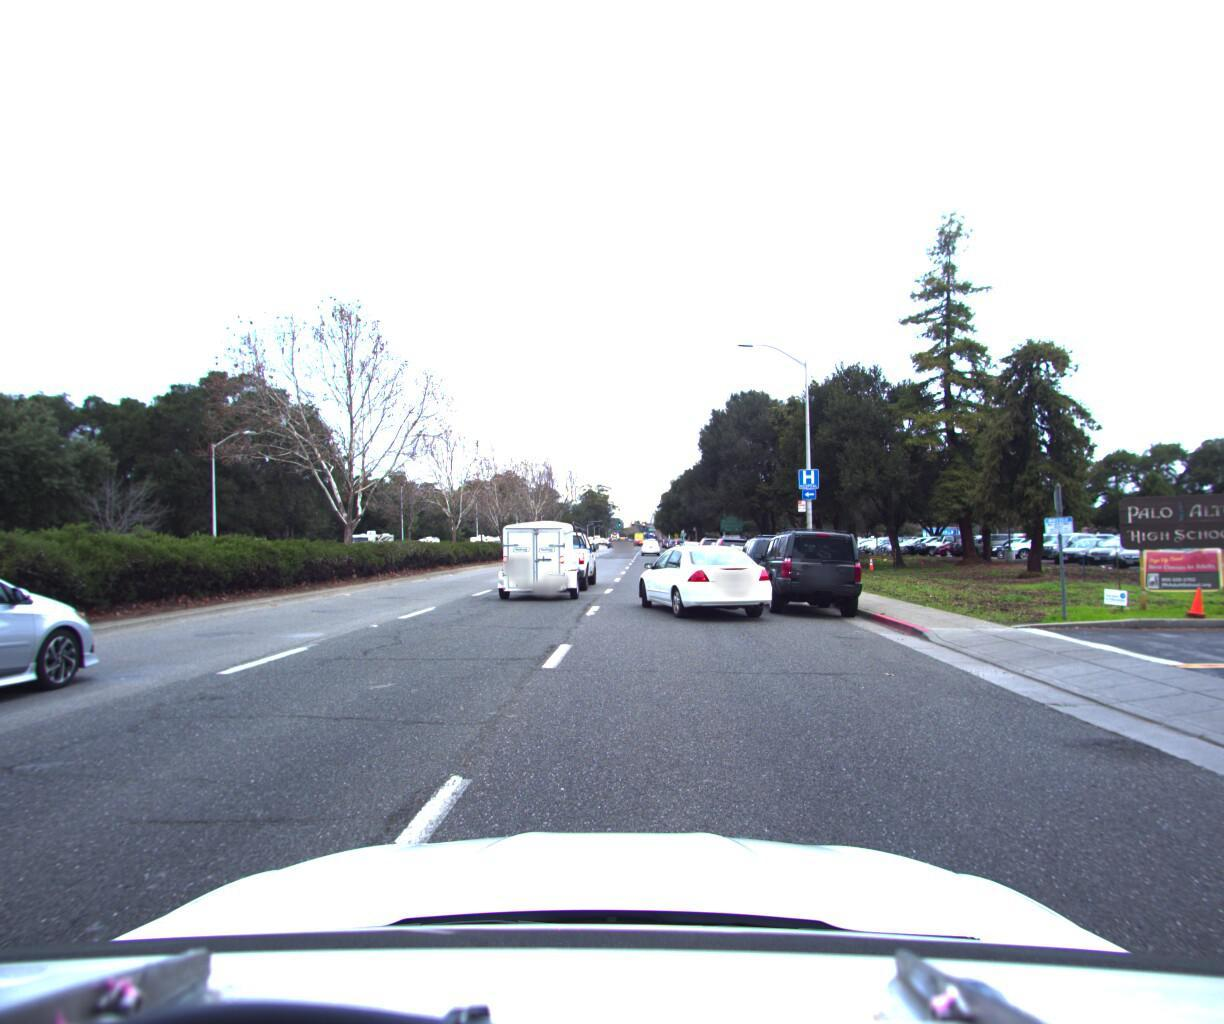car: (626, 538, 783, 624), (746, 519, 872, 617), (487, 513, 599, 603), (728, 527, 808, 592), (715, 536, 773, 582), (689, 529, 727, 563), (677, 534, 702, 553), (641, 534, 661, 551)
other_vehicle: (341, 525, 396, 564)
